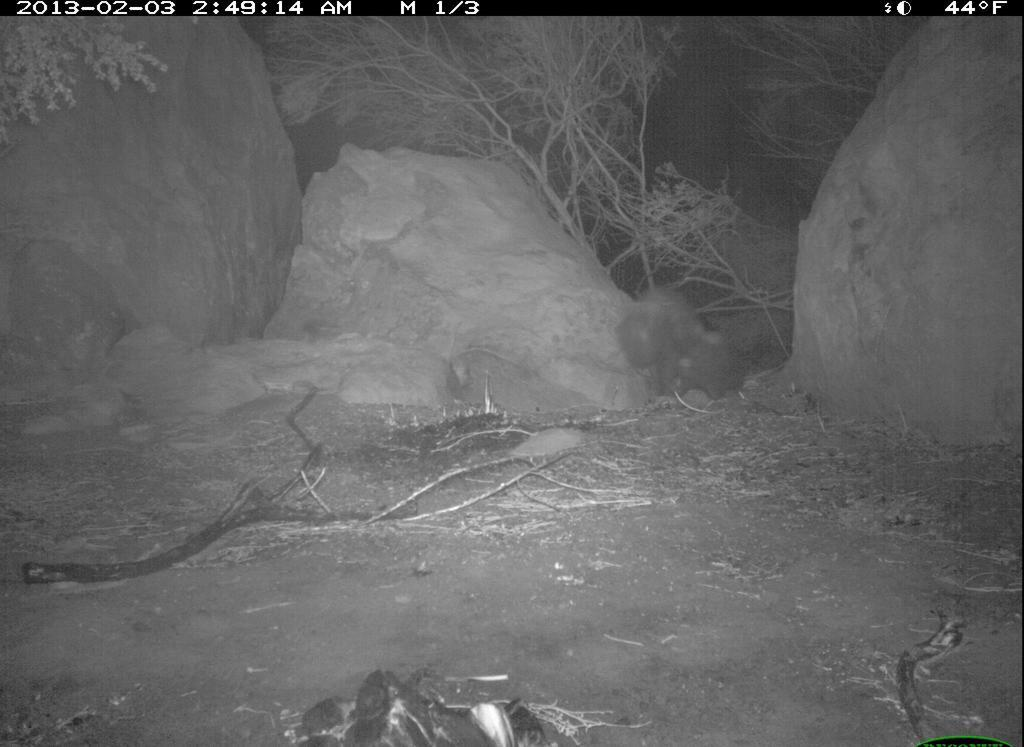skunk: (614, 278, 772, 422)
